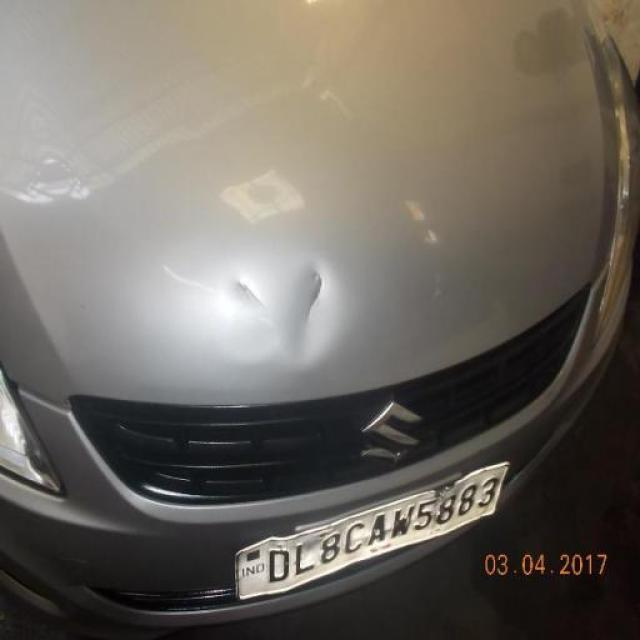dent: (275, 247, 344, 372), (210, 263, 283, 324)
